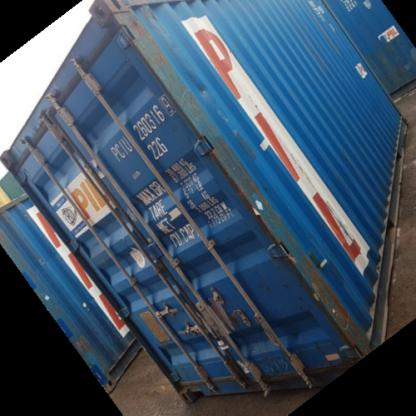Damage: (233, 164, 302, 260), (297, 258, 367, 348), (184, 100, 241, 171), (144, 26, 190, 108), (101, 0, 154, 62)
